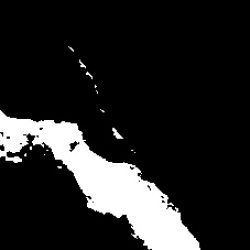crack: (2, 108, 201, 246), (65, 43, 125, 143)
